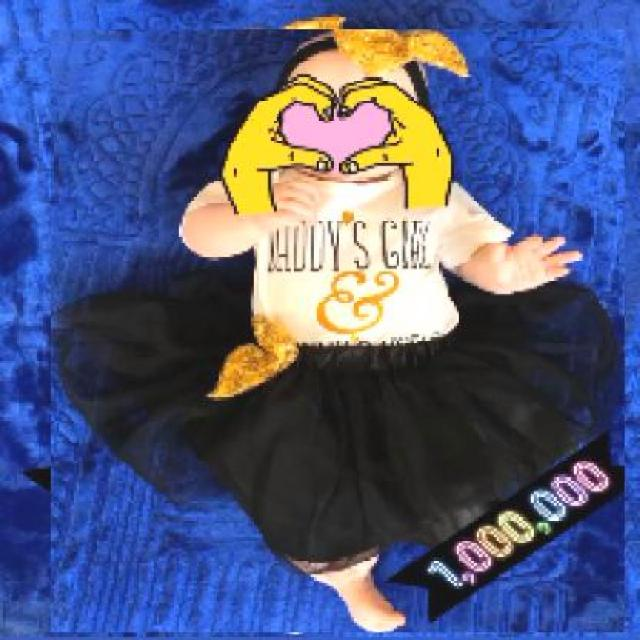child: (49, 29, 625, 634)
